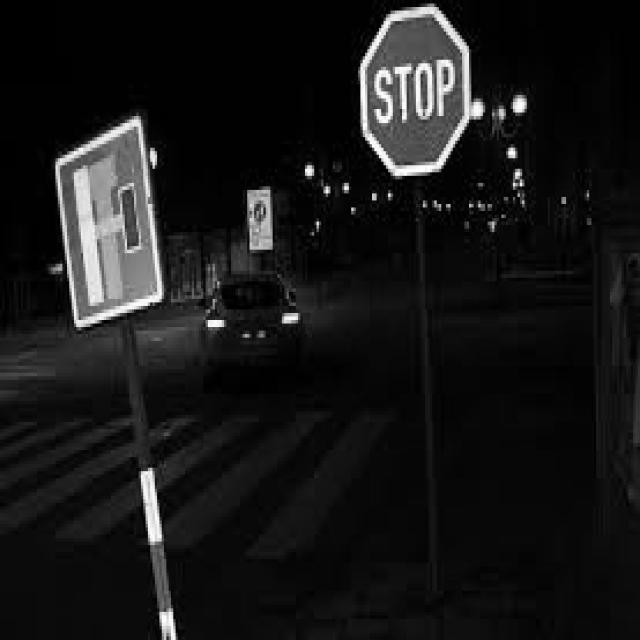stop sign: (363, 14, 472, 175)
